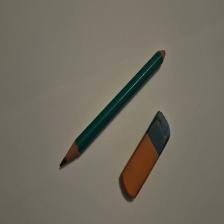eraser: (121, 111, 171, 200)
pencil: (61, 50, 167, 168)
